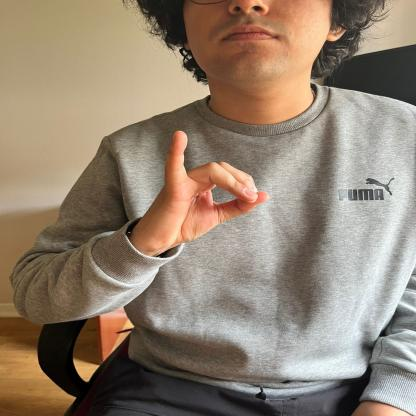D: (134, 126, 276, 242)
